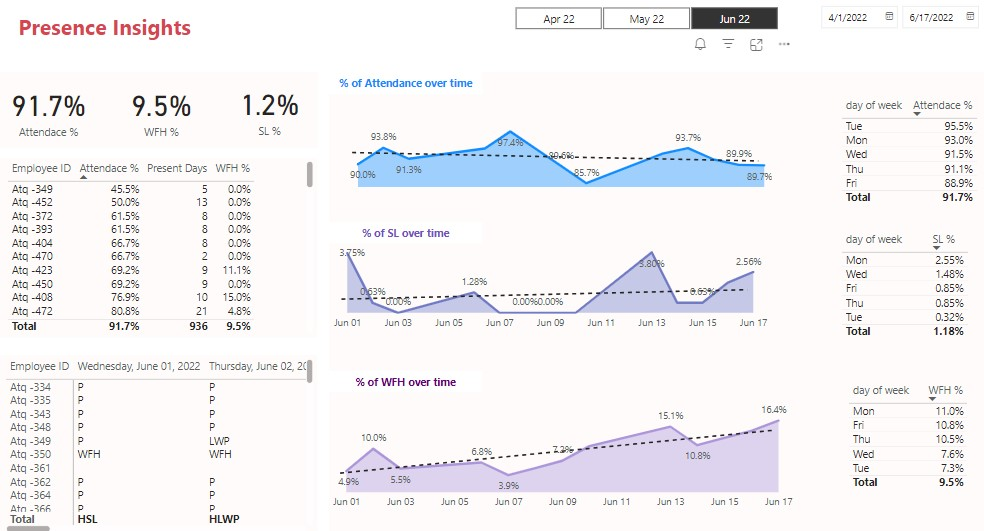

The dashboard page shown, as its layout file describes it:
{"tool":"powerbi","page":{"name":"Presence Insights","canvas":[1280,720],"ordinal":0},"visuals":[{"type":"textbox","box":[7.8,205.6,399.9,225.5],"z":0},{"type":"textbox","box":[7.8,453.3,399.8,227.6],"z":1000},{"type":"textbox","box":[422.3,97.9,848.1,582.3],"z":2000},{"type":"textbox","box":[7.8,98,399.9,95.4],"z":3000},{"type":"tableEx","fields":{"Values":["Final Data.Employee ID","Measures (2).Attendace %","Measures (2).Present Days","Measures (2).WFH %"]},"box":[12.6,205.2,394.9,225.7],"z":4000},{"type":"slicer","fields":{"Values":["Final Data.Date"]},"box":[1027.3,5.2,252.7,46.3],"z":5000},{"type":"slicer","fields":{"Values":["Final Data.MMM YY"]},"box":[630.4,10.5,379.5,35.8],"z":6000},{"type":"areaChart","fields":{"Category":["Final Data.MMM YY","Final Data.Date"],"Y":["Measures (2).WFH %"]},"box":[420.7,502.3,589,153.5],"z":7000},{"type":"areaChart","fields":{"Category":["Final Data.WeekNo","Final Data.Date"],"Y":["Measures (2).Attendace %"]},"box":[444.1,144.9,540.4,103.2],"z":8000},{"type":"card","fields":{"Values":["Measures (2).Attendace %"]},"box":[7.8,98,124,96.3],"z":9000},{"type":"card","fields":{"Values":["Measures (2).WFH %"]},"box":[141.4,98,138.8,96.3],"z":10000},{"type":"areaChart","fields":{"Category":["Final Data.MMM YY","Final Data.Date"],"Y":["Measures (2).SL %"]},"box":[422.5,307.1,556,124],"z":11000},{"type":"card","fields":{"Values":["Measures (2).SL %"]},"box":[286.3,97.2,121.4,96.3],"z":13000},{"type":"textbox","box":[0,0,280.8,71.6],"z":14000},{"type":"textbox","box":[422.4,98.2,192.5,27.5],"z":15000},{"type":"textbox","box":[422.5,286.3,192.6,26.9],"z":16000},{"type":"textbox","box":[422.1,473.7,192.6,27.2],"z":17000},{"type":"pivotTable","fields":{"Rows":["Final Data.Employee ID"],"Columns":["Final Data.Date"],"Values":["Min(Final Data.Value)"]},"box":[11.7,453.3,395.9,227.6],"z":18000},{"type":"textbox","box":[13.6,691.6,289.8,28.2],"z":19000},{"type":"tableEx","fields":{"Values":["Final Data.day of week","Measures (2).Attendace %"]},"box":[1060.9,125.8,209.9,145.7],"z":20000},{"type":"tableEx","fields":{"Values":["Final Data.day of week","Measures (2).SL %"]},"box":[1060.9,294.1,191.7,167.4],"z":21000},{"type":"tableEx","fields":{"Values":["Final Data.day of week","Measures (2).WFH %"]},"box":[1068.7,483.2,170,167.4],"z":22000}]}

Visuals, with their boxes on the page's 1280x720 design canvas (x1, y1, x2, y2). These are canvas units, not pixel positions in the 984x531 screenshot, which may show the page scaled, cropped or inside an application window:
textbox: select_region(8, 206, 408, 431)
textbox: select_region(8, 453, 408, 681)
textbox: select_region(422, 98, 1270, 680)
textbox: select_region(8, 98, 408, 193)
tableEx - Final Data.Employee ID x Measures (2).Attendace %: select_region(13, 205, 408, 431)
slicer - Final Data.Date: select_region(1027, 5, 1280, 52)
slicer - Final Data.MMM YY: select_region(630, 10, 1010, 46)
areaChart - Final Data.MMM YY x Final Data.Date: select_region(421, 502, 1010, 656)
areaChart - Final Data.WeekNo x Final Data.Date: select_region(444, 145, 984, 248)
card - Measures (2).Attendace %: select_region(8, 98, 132, 194)
card - Measures (2).WFH %: select_region(141, 98, 280, 194)
areaChart - Final Data.MMM YY x Final Data.Date: select_region(422, 307, 978, 431)
card - Measures (2).SL %: select_region(286, 97, 408, 194)
textbox: select_region(0, 0, 281, 72)
textbox: select_region(422, 98, 615, 126)
textbox: select_region(422, 286, 615, 313)
textbox: select_region(422, 474, 615, 501)
pivotTable - Final Data.Employee ID x Final Data.Date: select_region(12, 453, 408, 681)
textbox: select_region(14, 692, 303, 720)
tableEx - Final Data.day of week x Measures (2).Attendace %: select_region(1061, 126, 1271, 272)
tableEx - Final Data.day of week x Measures (2).SL %: select_region(1061, 294, 1253, 462)
tableEx - Final Data.day of week x Measures (2).WFH %: select_region(1069, 483, 1239, 651)
